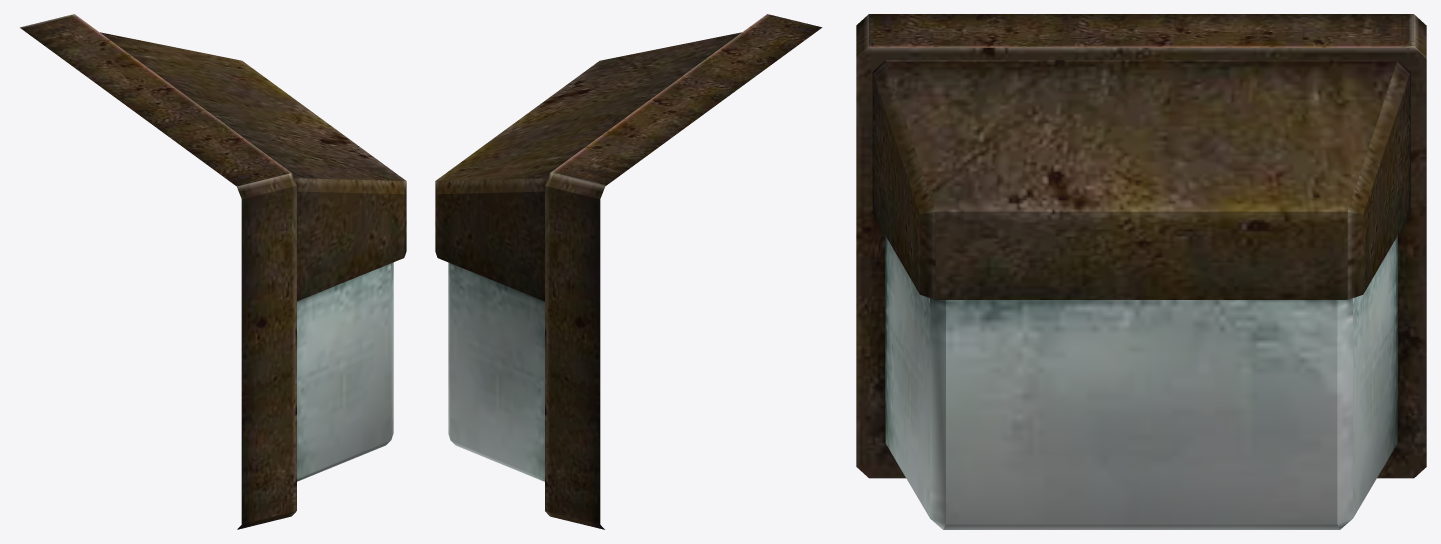
Rendered from light_security.glb.
The picture shows the model from 3 angles, left to right: view 1: azimuth 30°, elevation 25°; view 2: azimuth 150°, elevation 25°; view 3: azimuth 270°, elevation 25°; orthographic projection. The views are drawn at different scales.
Visible parts, largest first — view 1: 0_Light_security2, 1_Light_security; view 2: 0_Light_security2, 1_Light_security; view 3: 0_Light_security2, 1_Light_security.
Part boxes in pixels (x1=…): 0_Light_security2: x1=20, y1=14, x2=406, y2=529; 1_Light_security: x1=297, y1=262, x2=393, y2=481; 0_Light_security2: x1=435, y1=14, x2=822, y2=529; 1_Light_security: x1=448, y1=262, x2=544, y2=481; 0_Light_security2: x1=856, y1=14, x2=1426, y2=478; 1_Light_security: x1=885, y1=235, x2=1397, y2=529.
Size of the model in its own units: 0.228 by 0.381 by 0.4574.
Materials: 2 (2 with a texture image).
